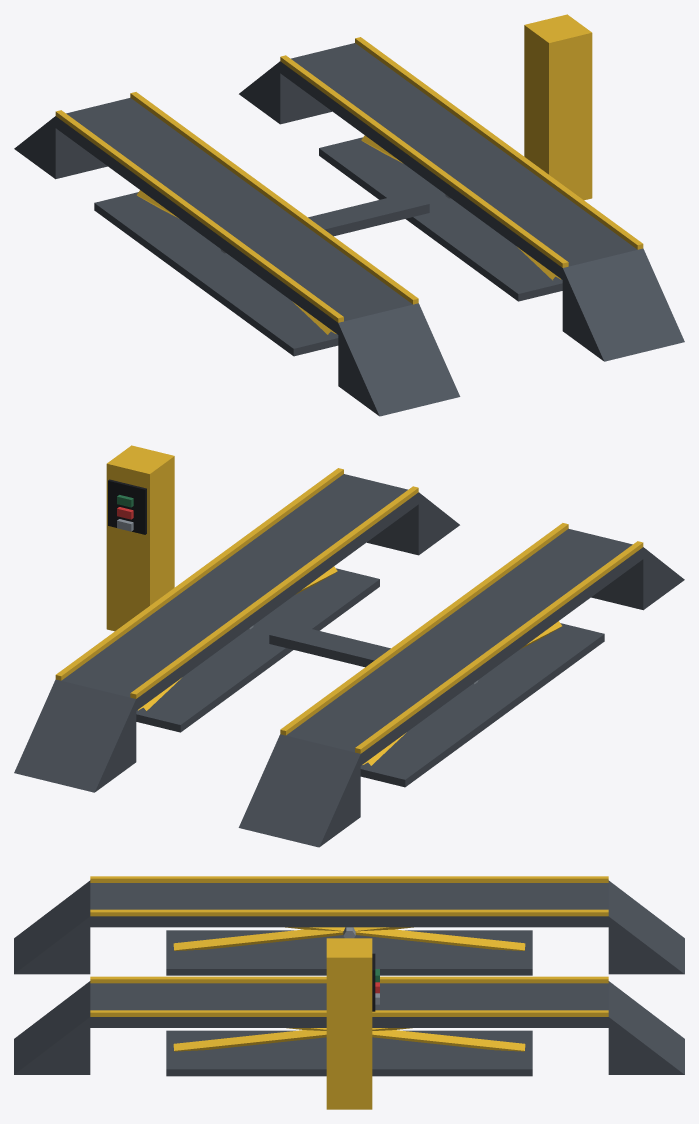
File: repair_lift.glb
3 views of the same model, one above another, from view 1: azimuth 30°, elevation 25°; view 2: azimuth 150°, elevation 25°; view 3: azimuth 270°, elevation 25° (orthographic). The views are drawn at different scales.
Parts seen in each view (by area): view 1: Body; view 2: Body; view 3: Body.
Boxes of the visible parts, x1,y1,x2,y2 form: Body: (14, 14, 684, 416); Body: (14, 445, 684, 847); Body: (14, 876, 684, 1109).
Size of the model in its own units: 2.68 by 1.1 by 4.4.
